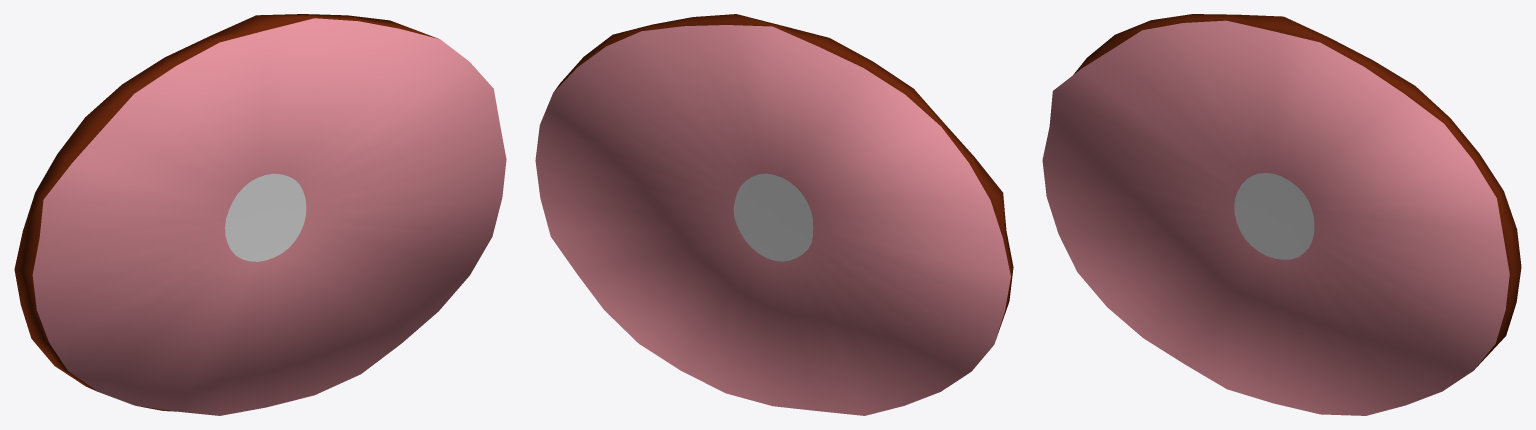
The model's file is cutCookedPork.fbx.
The picture shows the model from 3 angles, left to right: view 1: azimuth 30°, elevation 25°; view 2: azimuth 150°, elevation 25°; view 3: azimuth 330°, elevation 25°; orthographic projection.
Visible parts, largest first — view 1: Cylinder.005; view 2: Cylinder.005; view 3: Cylinder.005.
Boxes of the visible parts, x1=… form: Cylinder.005: x1=14, y1=14, x2=506, y2=415; Cylinder.005: x1=535, y1=14, x2=1013, y2=415; Cylinder.005: x1=1042, y1=14, x2=1521, y2=415.
Size of the model in its own units: 94.04 by 71.76 by 3.63.
